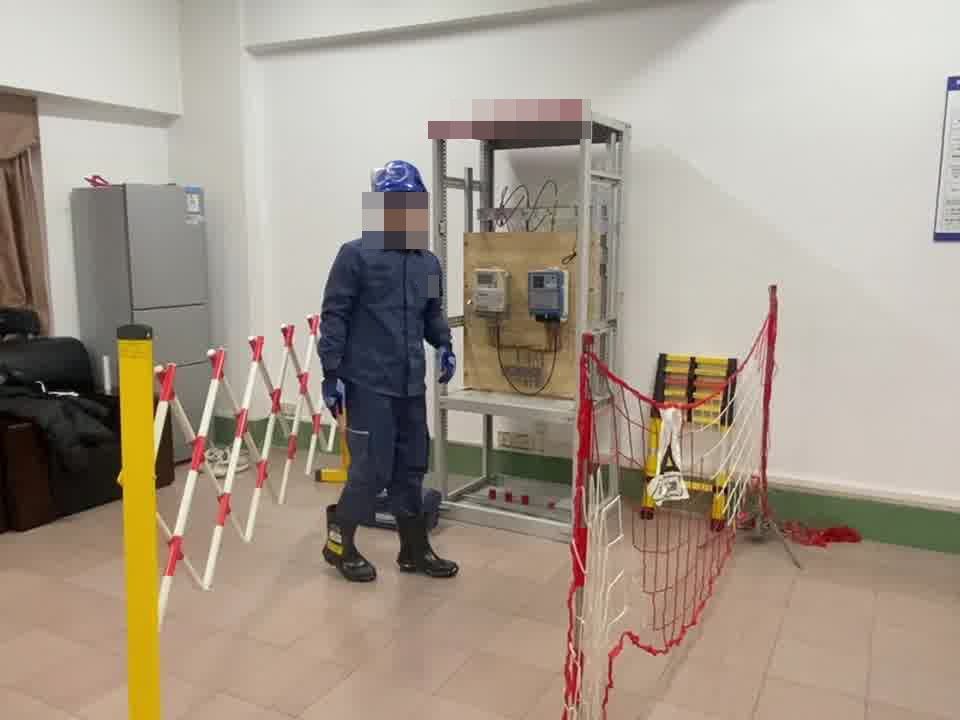downsuit: (340, 395, 437, 527)
glove: (318, 384, 345, 418), (436, 348, 457, 384)
halt: (371, 160, 431, 237)
person: (315, 157, 460, 581)
shoe: (392, 507, 460, 579), (322, 503, 378, 583)
upsuit: (316, 222, 447, 390)
